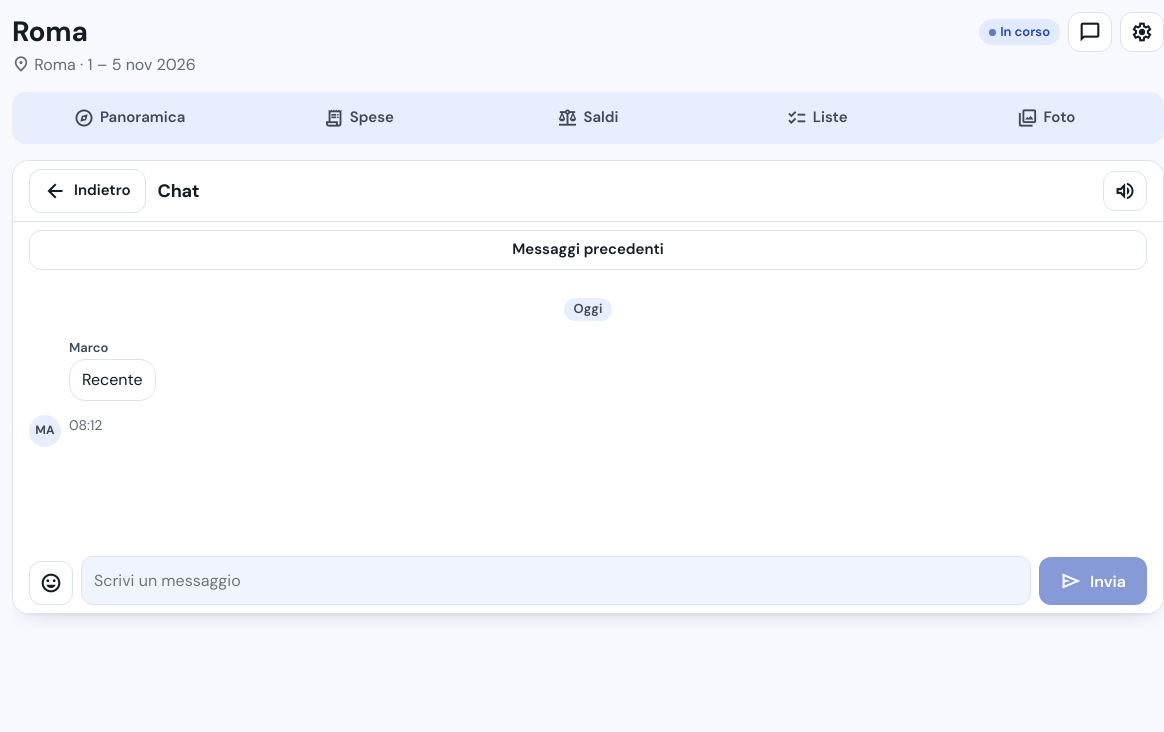
Test: caricando i messaggi precedenti la posizione di lettura resta ferma
The width and height of the screenshot is (1164, 732).
Expected: the text "Recente" is shown, [69,360,156,401]
Click the button "Messaggi precedenti".
click(588, 250)  # box [29,230,1147,270]
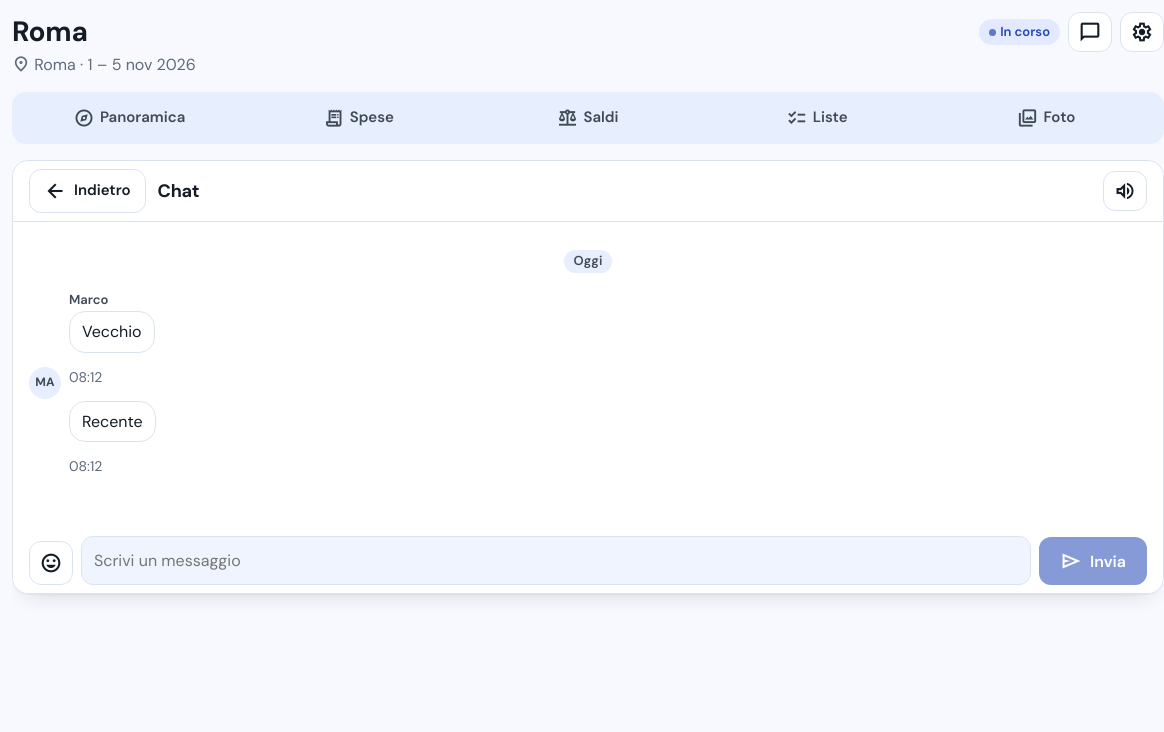
Expected: the text "Vecchio" is shown, [69,312,155,353]
